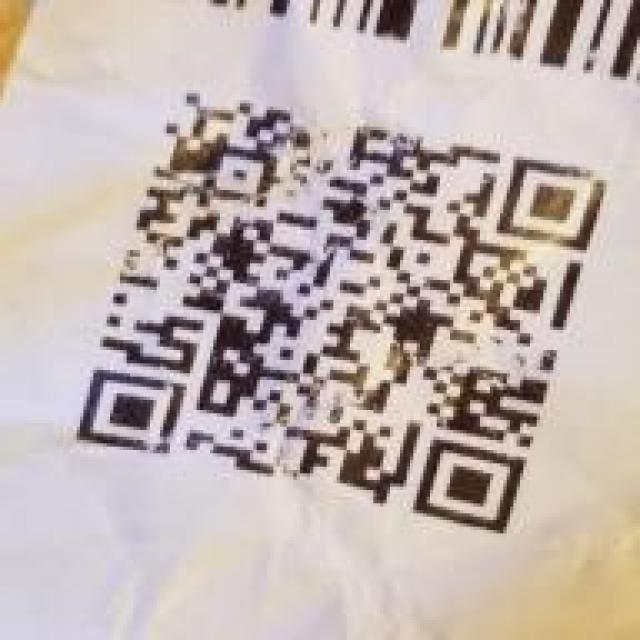QR_CODE: (67, 80, 620, 547)
